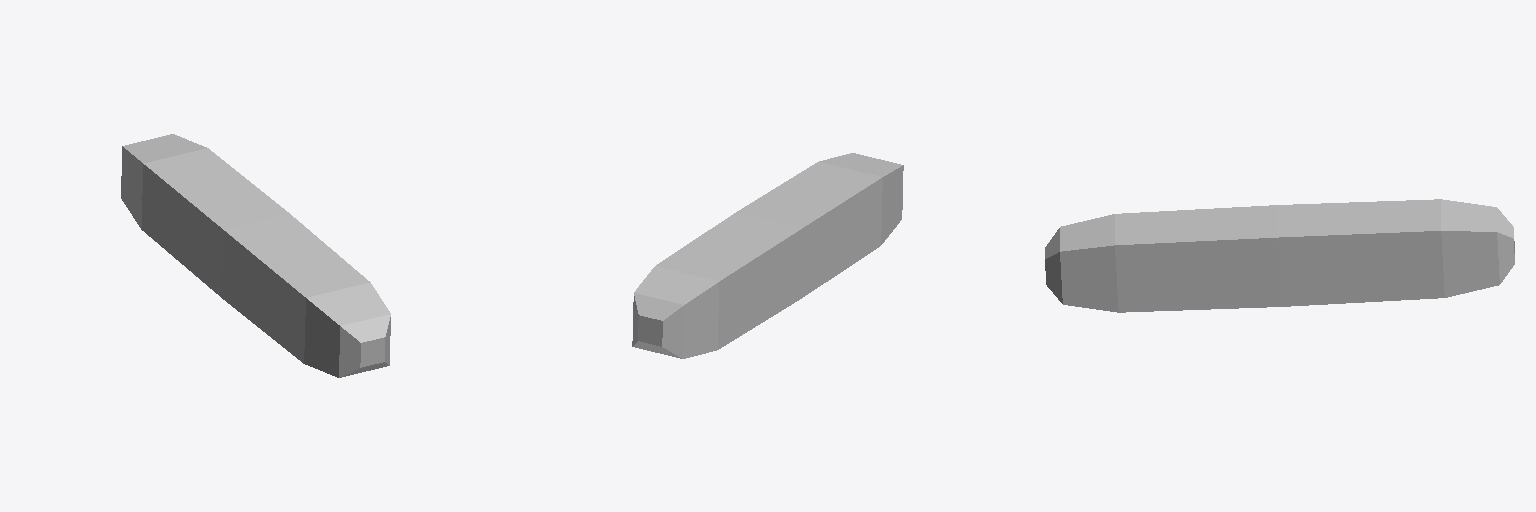
Rendered from right_hand_endeffector.obj.
The picture shows the model from 3 angles: view 1: azimuth 30°, elevation 25°; view 2: azimuth 150°, elevation 25°; view 3: azimuth 270°, elevation 25°; orthographic projection.
Parts seen in each view (by area): view 1: ../rami/model/right_hand_endeffector; view 2: ../rami/model/right_hand_endeffector; view 3: ../rami/model/right_hand_endeffector.
Part boxes in pixels (bbox=[...]): ../rami/model/right_hand_endeffector: bbox=[121, 134, 390, 377]; ../rami/model/right_hand_endeffector: bbox=[632, 153, 903, 358]; ../rami/model/right_hand_endeffector: bbox=[1045, 199, 1514, 312].
Size of the model in its own units: 0.0001 by 0.0001 by 0.0005.